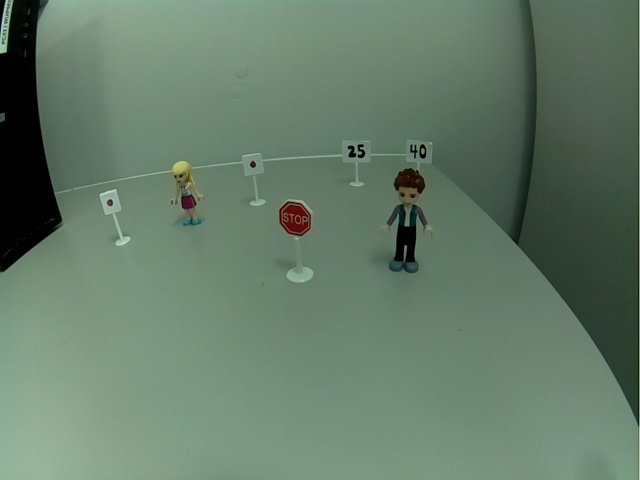people: (380, 168, 436, 276), (168, 159, 208, 230)
red light: (97, 188, 123, 216), (240, 151, 264, 177)
speed 25: (340, 137, 371, 165)
speed 40: (405, 136, 434, 165)
stop: (276, 198, 315, 239)
